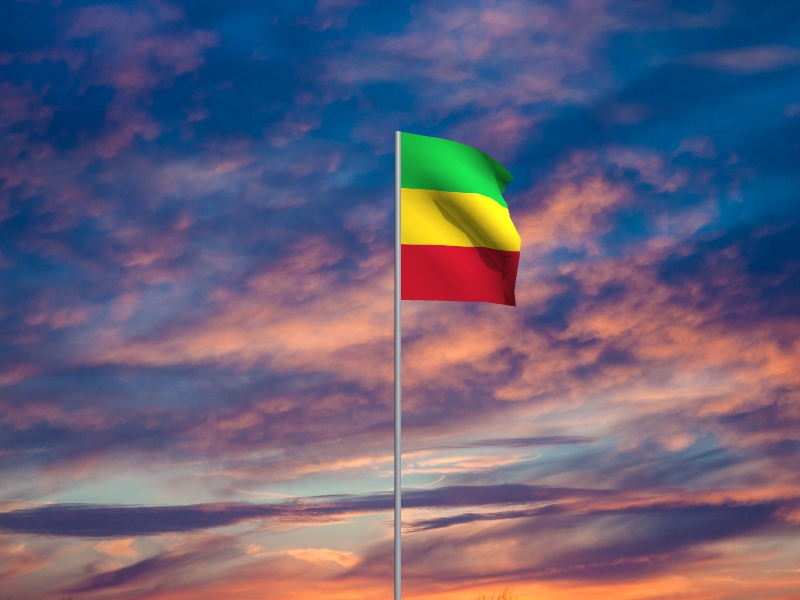ml: (402, 133, 523, 309)
